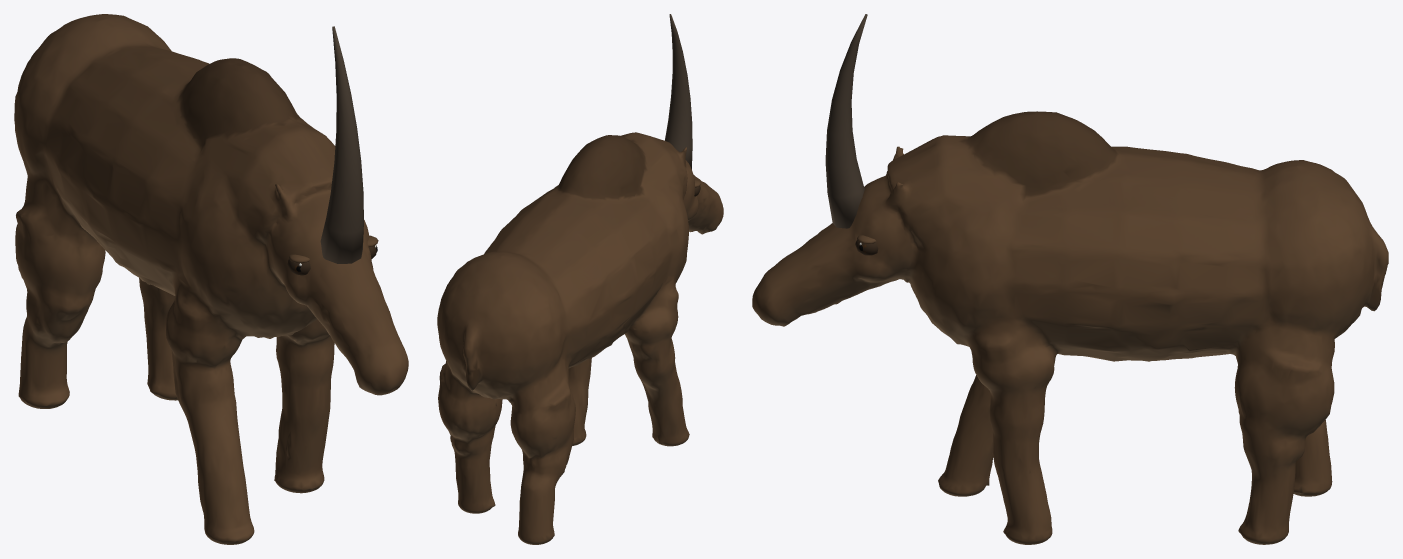
The model's file is ElasmotheriumSibiricum.fbx.
The picture shows the model from 3 angles, left to right: view 1: azimuth 30°, elevation 25°; view 2: azimuth 150°, elevation 25°; view 3: azimuth 270°, elevation 25°; orthographic projection. The views are drawn at different scales.
Visible parts, largest first — view 1: ElasmotheriumSibiricum; view 2: ElasmotheriumSibiricum; view 3: ElasmotheriumSibiricum.
Part boxes in pixels (<box>): ElasmotheriumSibiricum: <box>14,14,408,544</box>; ElasmotheriumSibiricum: <box>437,14,723,544</box>; ElasmotheriumSibiricum: <box>752,14,1388,544</box>.
Bounding box in the file's own units: 0.6296 × 1.81 × 2.08.
